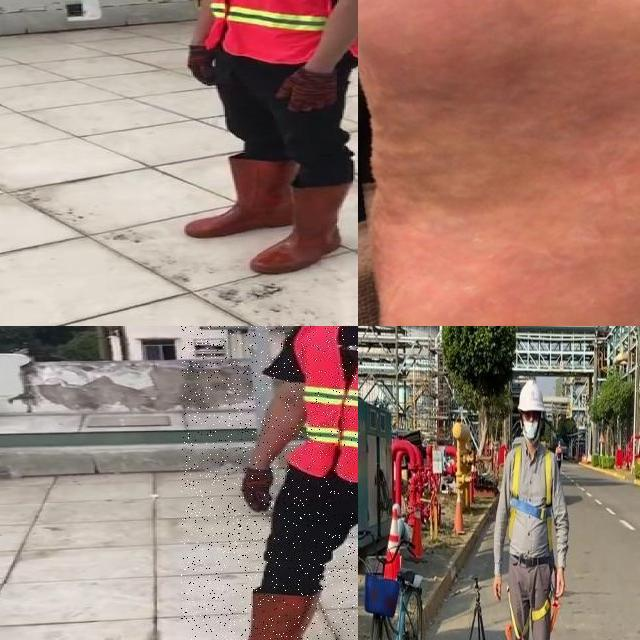Barefoots: (358, 0, 640, 326)
Harness: (509, 445, 554, 552), (505, 590, 560, 640)
boots: (184, 156, 298, 237), (250, 186, 352, 274), (192, 590, 318, 640)
person: (164, 0, 358, 287), (181, 326, 358, 640)
vest: (285, 326, 358, 489), (209, 0, 358, 62)
